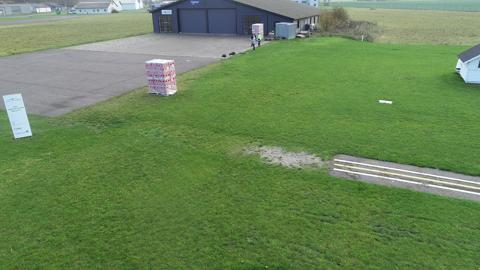RockwoolPallet: (252, 23, 264, 42)
